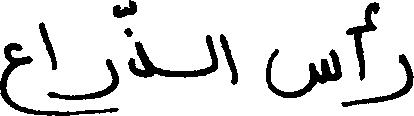X: (265, 44, 341, 108), (76, 0, 117, 115), (0, 38, 30, 115), (128, 0, 153, 82), (382, 49, 413, 106), (40, 17, 55, 115), (353, 13, 364, 109), (221, 29, 237, 89), (205, 30, 217, 80)
